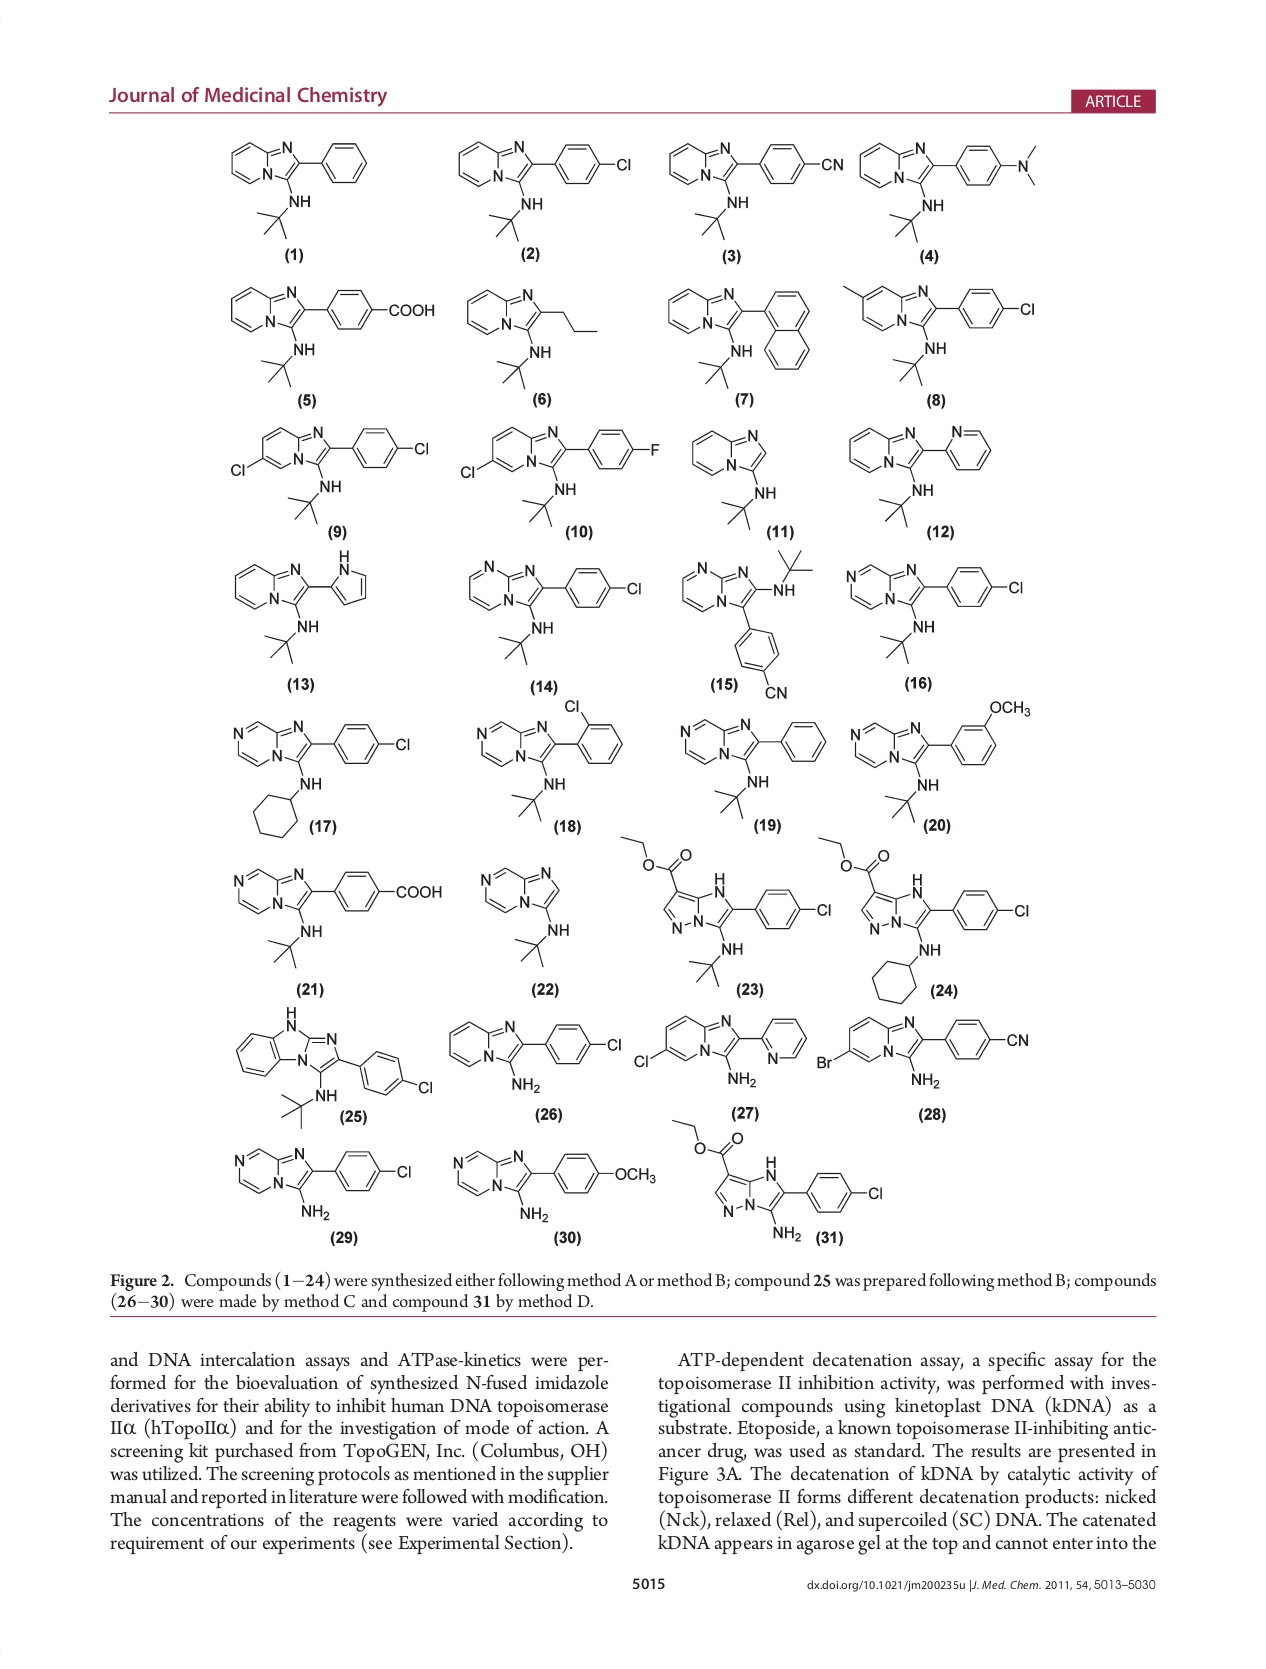exist_molecular: (813, 830, 1032, 1007), (616, 833, 832, 988), (668, 1114, 886, 1243), (233, 1001, 436, 1130), (227, 864, 448, 972), (846, 696, 1033, 822), (226, 281, 440, 390), (227, 715, 412, 839), (839, 277, 1037, 390), (457, 420, 664, 527), (225, 420, 431, 524), (678, 547, 817, 701), (840, 556, 1027, 669), (464, 555, 644, 670), (855, 137, 1043, 243), (452, 136, 634, 245), (664, 136, 847, 243), (473, 697, 626, 823), (814, 1013, 1036, 1093), (448, 1144, 656, 1226), (230, 547, 370, 669), (661, 285, 814, 392), (676, 714, 830, 821), (842, 422, 993, 527), (225, 133, 368, 241), (444, 1013, 626, 1096), (233, 1142, 416, 1223), (461, 286, 601, 390), (630, 1009, 809, 1091), (684, 423, 781, 532), (479, 862, 576, 969)
